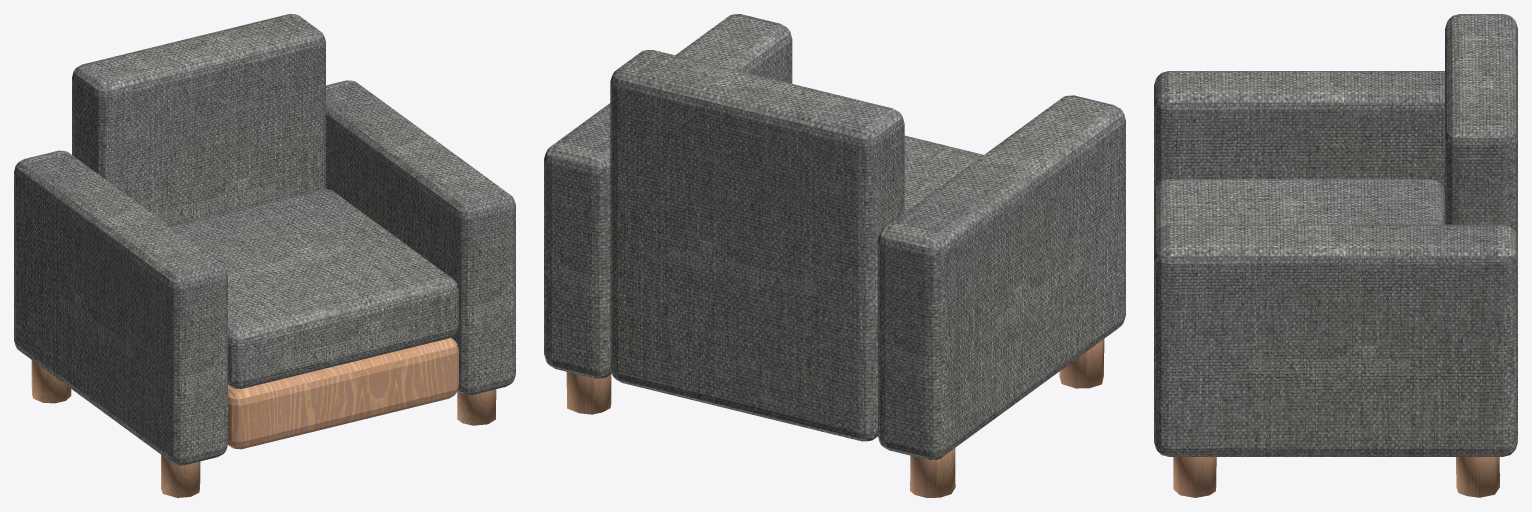
File: single_sofa.dae
The picture shows the model from 3 angles, left to right: view 1: azimuth 30°, elevation 25°; view 2: azimuth 150°, elevation 25°; view 3: azimuth 270°, elevation 25°; orthographic projection. The views are drawn at different scales.
Parts seen in each view (by area): view 1: Cube.001, Cube.003, Cube.002, Cube, Cube.005, Legs; view 2: Cube.003, Cube.001, Cube, Legs, Cube.002; view 3: Cube, Cube.001, Cube.003, Cube.002, Legs.
Part boxes in pixels (<box>): Cube.001: <box>14,150,227,465</box>; Cube.003: <box>72,14,325,226</box>; Cube.002: <box>170,189,458,388</box>; Cube: <box>326,80,515,395</box>; Cube.005: <box>228,337,458,449</box>; Legs: <box>31,360,496,497</box>; Cube.003: <box>610,50,904,441</box>; Cube.001: <box>877,95,1125,460</box>; Cube: <box>544,14,792,378</box>; Legs: <box>566,339,1104,497</box>; Cube.002: <box>904,135,983,212</box>; Cube: <box>1154,224,1517,456</box>; Cube.001: <box>1154,71,1444,192</box>; Cube.003: <box>1445,14,1517,238</box>; Cube.002: <box>1154,179,1444,238</box>; Legs: <box>1173,457,1499,497</box>.
Size of the model in its own units: 0.9 by 0.75 by 0.7725.
